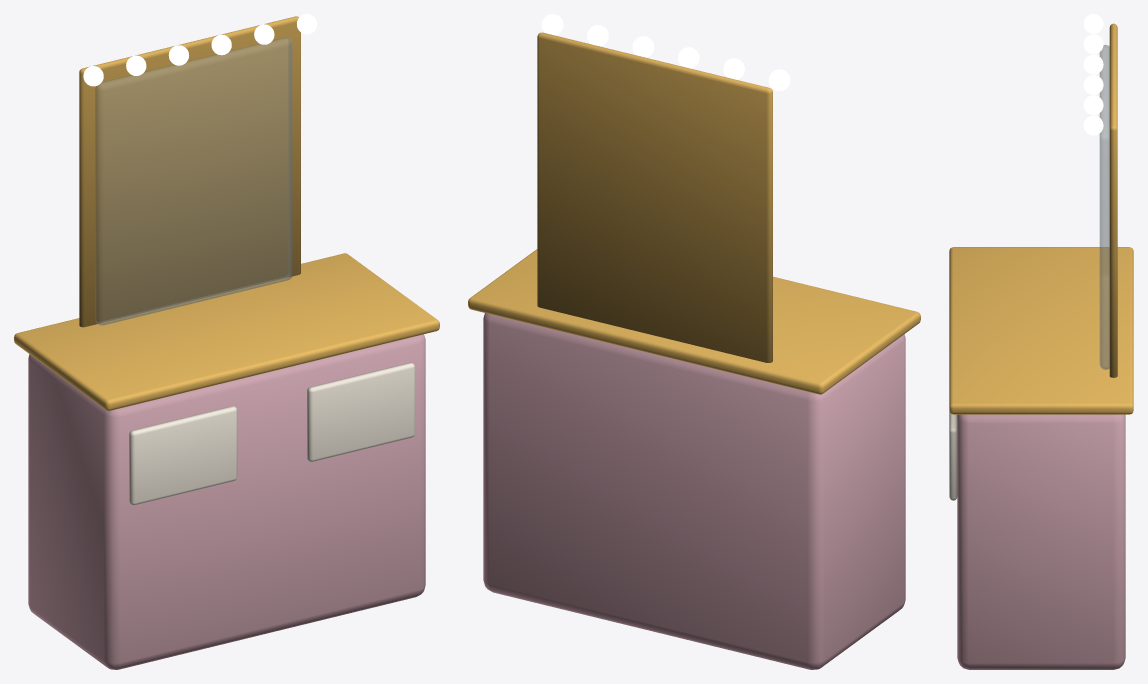
The model's file is gift-yuki.glb.
3 renders of one model, left to right at view 1: azimuth 30°, elevation 25°; view 2: azimuth 150°, elevation 25°; view 3: azimuth 270°, elevation 25°, orthographic. The views are drawn at different scales.
Parts seen in each view (by area): view 1: gift-yuki; view 2: gift-yuki; view 3: gift-yuki.
Part boxes in pixels (x1,y1,x2,y2): gift-yuki: [14, 14, 439, 669]; gift-yuki: [468, 14, 920, 669]; gift-yuki: [949, 14, 1133, 669].
Bounding box in the file's own units: 0.94 × 1.47 × 0.46.
